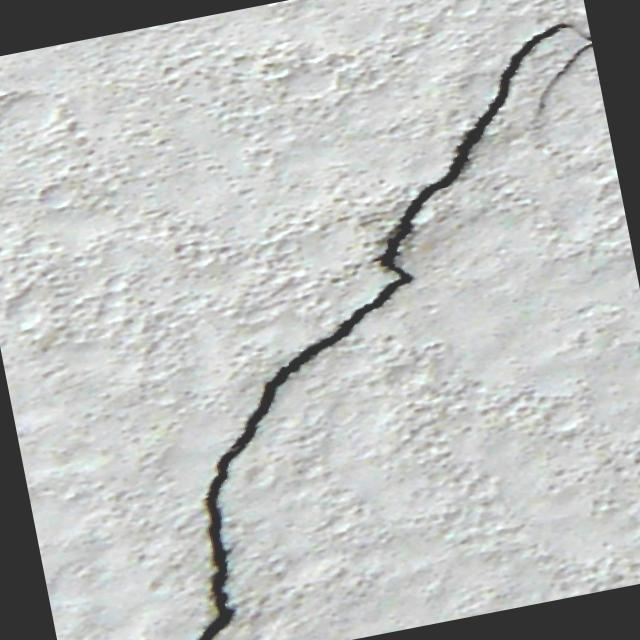crack: (123, 293, 452, 640), (329, 16, 632, 298)
